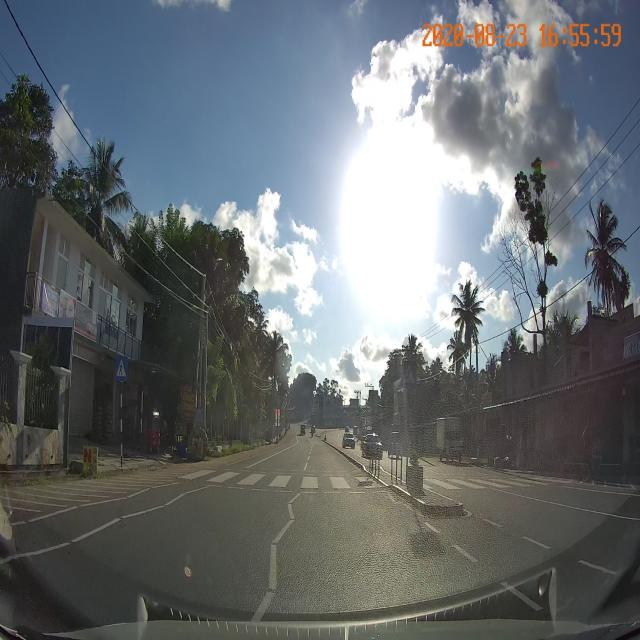Crosswalk: (169, 467, 578, 495)
